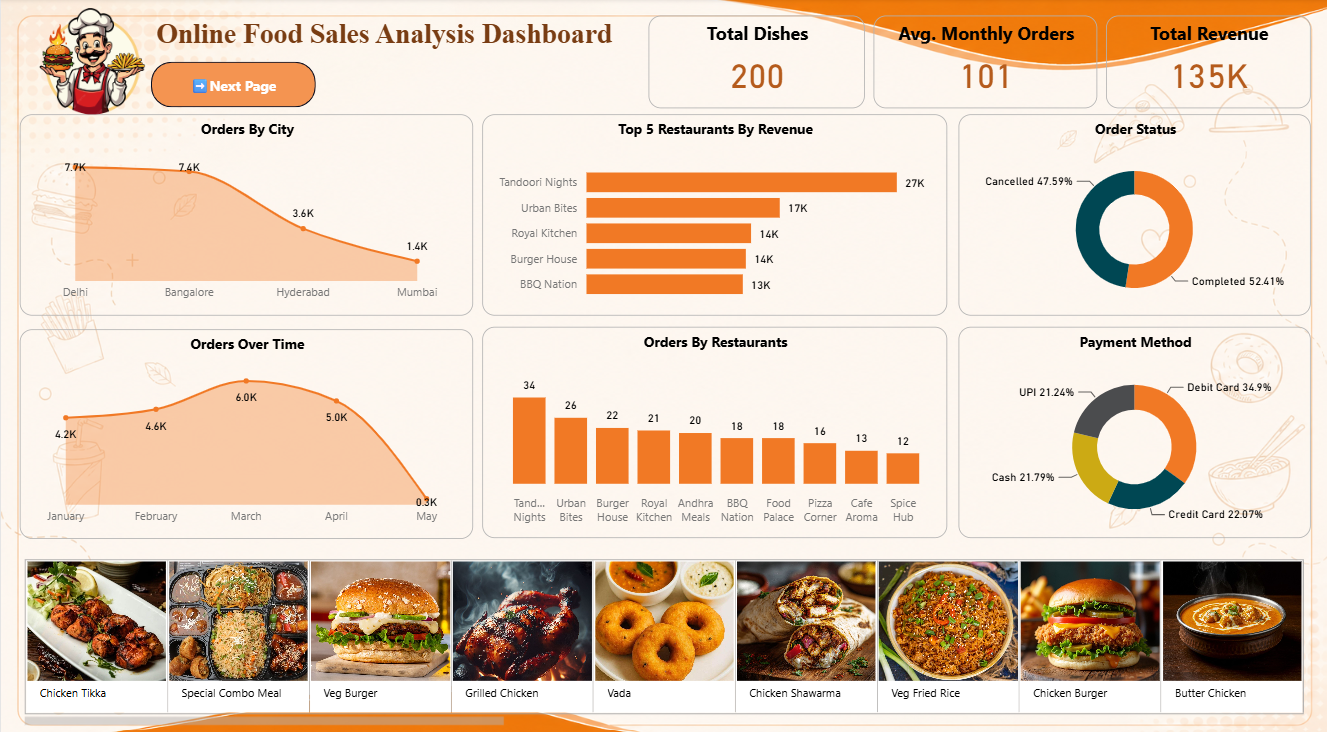

What the dashboard file says about the page in this screenshot:
{"tool":"powerbi","page":{"name":"🏠 Home","canvas":[1280,720],"ordinal":0},"visuals":[{"type":"lineChart","title":"Orders Over Time","fields":{"Y":["Sum(orders.order_id)"],"Category":["orders.order_date.Variation.Date Hierarchy.Year","orders.order_date.Variation.Date Hierarchy.Quarter","orders.order_date.Variation.Date Hierarchy.Month","orders.order_date.Variation.Date Hierarchy.Day"]},"box":[18.1,319.7,437.9,202.7],"z":0},{"type":"pieChart","title":"Order  Status","fields":{"Category":["orders.order_status"],"Y":["Sum(orders.order_id)"]},"box":[924.1,112.2,340.2,194.2],"z":1000},{"type":"donutChart","title":"Payment Method ","fields":{"Y":["Sum(orders.order_id)"],"Category":["orders.payment_method"]},"box":[924.1,317.3,340.2,203.9],"z":2000},{"type":"barChart","title":"Top 5 Restaurants By Revenue","fields":{"Category":["restaurants.restaurant_name"],"Y":["Sum(orders.order_amount)"]},"box":[465,112.5,448.8,194.2],"z":3000},{"type":"columnChart","title":"Orders By Restaurants","fields":{"Y":["CountNonNull(orders.order_id)"],"Category":["restaurants.restaurant_name"]},"box":[465,317.5,448.8,203.8],"z":4000},{"type":"lineChart","title":"Orders By City","fields":{"Category":["restaurants.city"],"Y":["Sum(orders.order_id)"]},"box":[18.1,112.2,437.9,194.2],"z":5000},{"type":"advancedSlicerVisual","title":"Dishes","fields":{"Values":["orders.dish_url"],"Label":["Min(orders.dish)"]},"box":[18.1,536.9,1246.3,172.5],"z":6000},{"type":"textbox","box":[144.8,14.5,480.2,47.1],"z":7000},{"type":"card","title":"Total Revenue","fields":{"Values":["Sum(orders.order_amount)"]},"box":[1066.3,16.9,197.9,89.3],"z":8000},{"type":"card","title":"Avg. Monthly Orders","fields":{"Values":["Avg(orders.order_id)"]},"box":[841.9,16.9,216,89.3],"z":9000},{"type":"card","title":"Total Dishes","fields":{"Values":["CountNonNull(orders.dish)"]},"box":[624.7,16.9,208.7,89.3],"z":10000},{"type":"image","box":[0,0,177.3,127.2],"z":11000},{"type":"pageNavigator","box":[144.8,61.5,159.3,44.6],"z":12000}]}

Visuals, with their boxes in screenshot pixels (x1, y1, x2, y2), scaled from the page's 1280x720 canvas onto the 1327x732 screenshot:
"Orders Over Time" lineChart: detection(19, 325, 473, 531)
"Order  Status" pieChart: detection(958, 114, 1311, 312)
"Payment Method " donutChart: detection(958, 323, 1311, 530)
"Top 5 Restaurants By Revenue" barChart: detection(482, 114, 947, 312)
"Orders By Restaurants" columnChart: detection(482, 323, 947, 530)
"Orders By City" lineChart: detection(19, 114, 473, 312)
"Dishes" advancedSlicerVisual: detection(19, 546, 1311, 721)
textbox: detection(150, 15, 648, 63)
"Total Revenue" card: detection(1105, 17, 1311, 108)
"Avg. Monthly Orders" card: detection(873, 17, 1097, 108)
"Total Dishes" card: detection(648, 17, 864, 108)
image: detection(0, 0, 184, 129)
pageNavigator: detection(150, 63, 315, 108)
